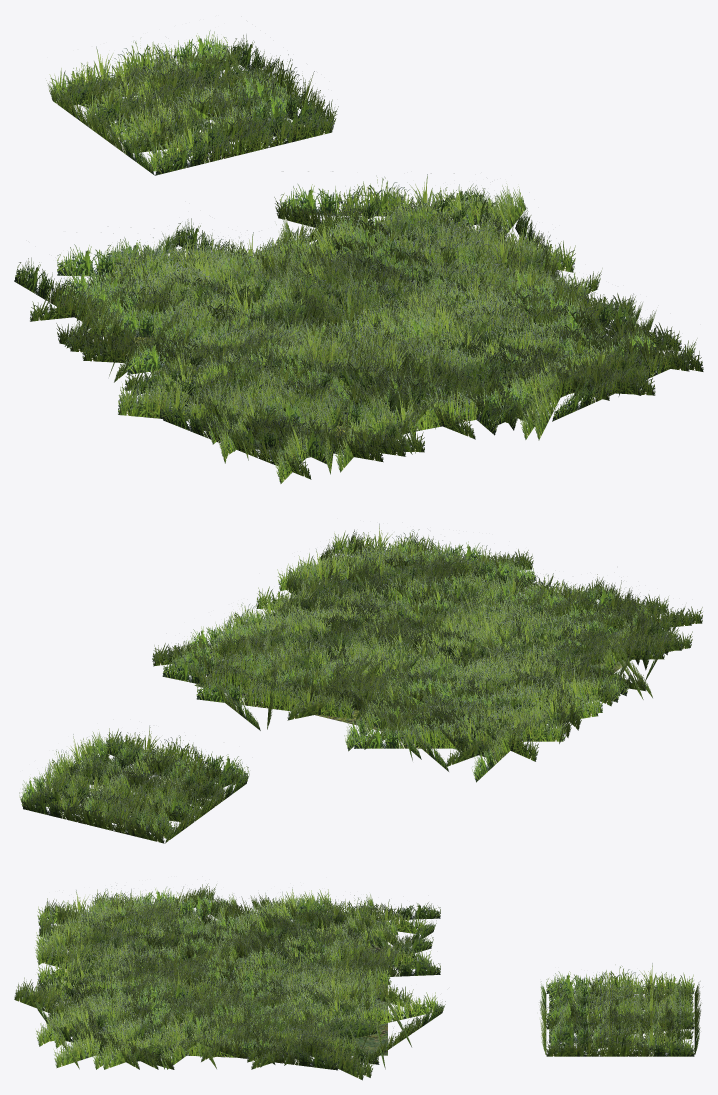
The model's file is grass_tuft.glb.
3 views of the same model, one above another, from view 1: azimuth 30°, elevation 25°; view 2: azimuth 150°, elevation 25°; view 3: azimuth 270°, elevation 25° (orthographic). The views are drawn at different scales.
Parts seen in each view (by area): view 1: Object_8; view 2: Object_8; view 3: Object_8.
Boxes of the visible parts, left/top/right/bottom form: Object_8: left=14, top=30, right=703, bottom=483; Object_8: left=19, top=523, right=702, bottom=843; Object_8: left=14, top=883, right=701, bottom=1080.
Size of the model in its own units: 5.37 by 0.48 by 8.57.
Materials: 3 (2 with a texture image).
